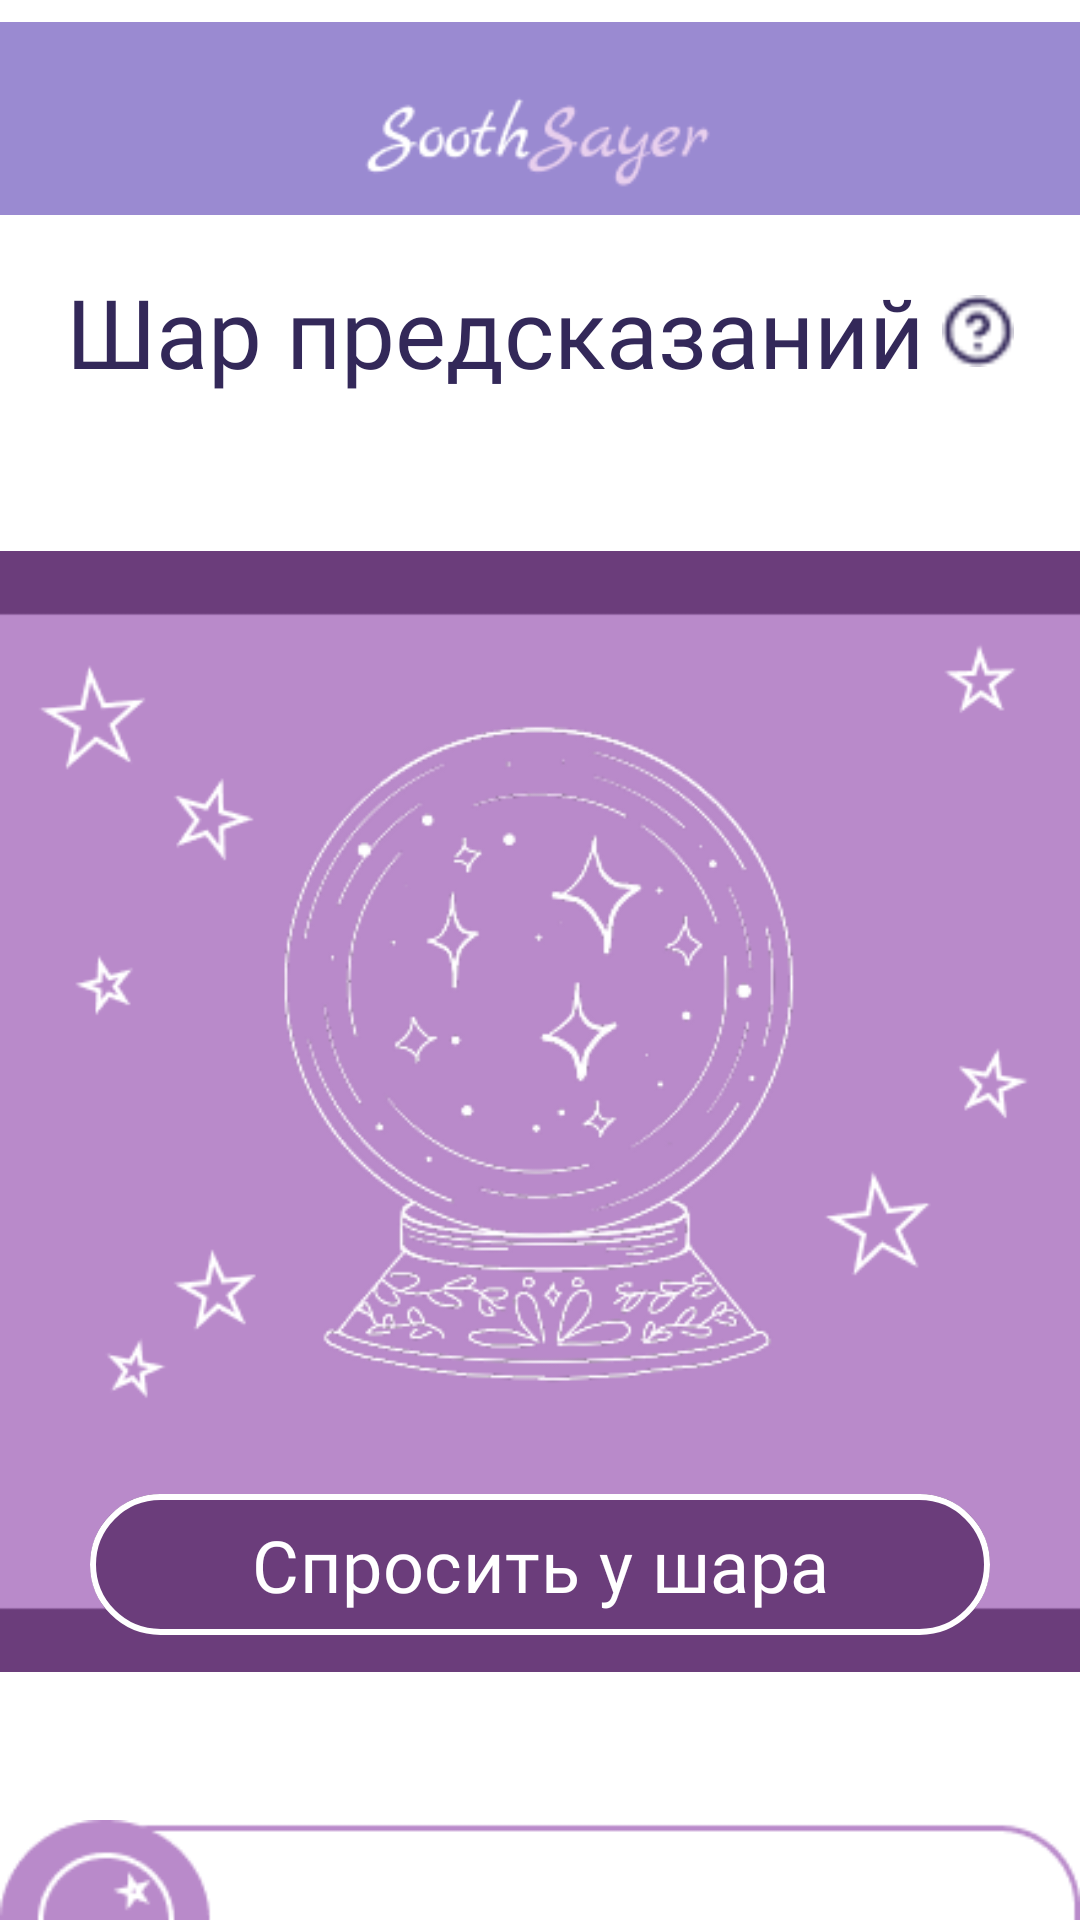

Icons on this 1080 x 1920 Android screen, each with the point to tap as (x=x, y=y):
info: (x=978, y=331)
